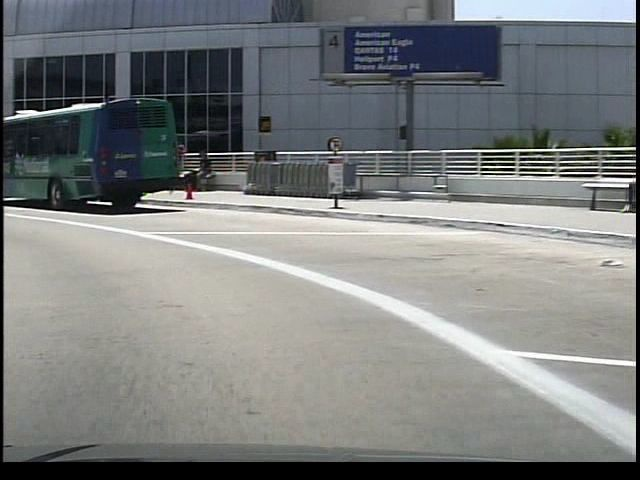person: (185, 146, 213, 194)
